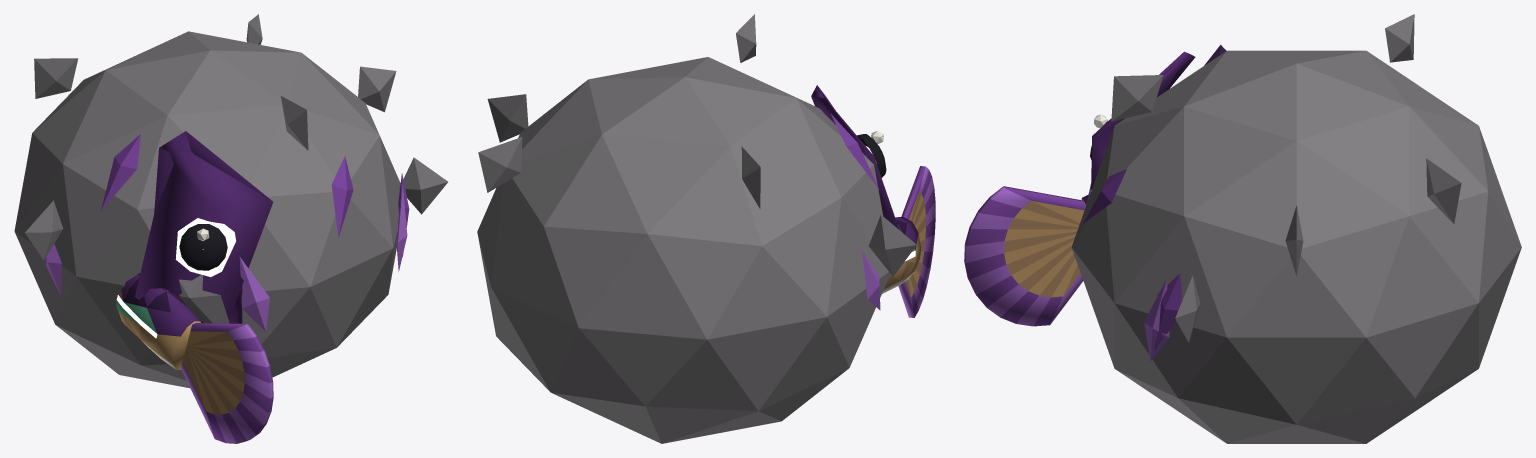
Rendered from carp-mud-sleeper.glb.
3 renders of one model, left to right at view 1: azimuth 30°, elevation 25°; view 2: azimuth 150°, elevation 25°; view 3: azimuth 270°, elevation 25°, orthographic. The views are drawn at different scales.
Visible parts, largest first — view 1: mudball, wag_body_2, wag_body_1, blink_eye_r; view 2: mudball, wag_body_2, wag_body_1, blink_eye_r; view 3: mudball, wag_body_2.
Part boxes in pixels (x1,y1,x2,y2): mudball: (14, 14, 447, 388); wag_body_2: (181, 323, 273, 443); wag_body_1: (116, 273, 200, 369); blink_eye_r: (175, 218, 235, 276); mudball: (477, 14, 916, 443); wag_body_2: (898, 166, 935, 317); wag_body_1: (882, 216, 920, 293); blink_eye_r: (857, 131, 886, 177); mudball: (1071, 14, 1521, 443); wag_body_2: (964, 186, 1085, 326).
Size of the model in its own units: 0.4925 by 0.396 by 0.545.
